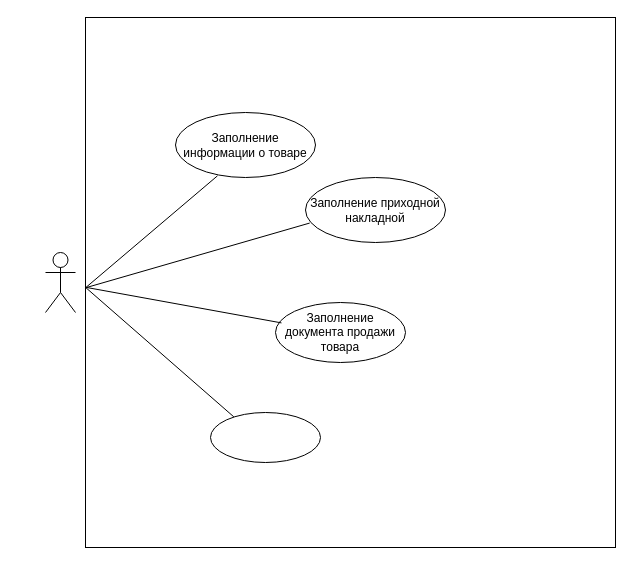
This 633x565 diagram has some shape labels left out. Here are the shapes that lost their labels. From the top down, the box of each, then its label:
(44, 252, 76, 312): Администратор
(210, 412, 320, 462): Формирование отчёта
